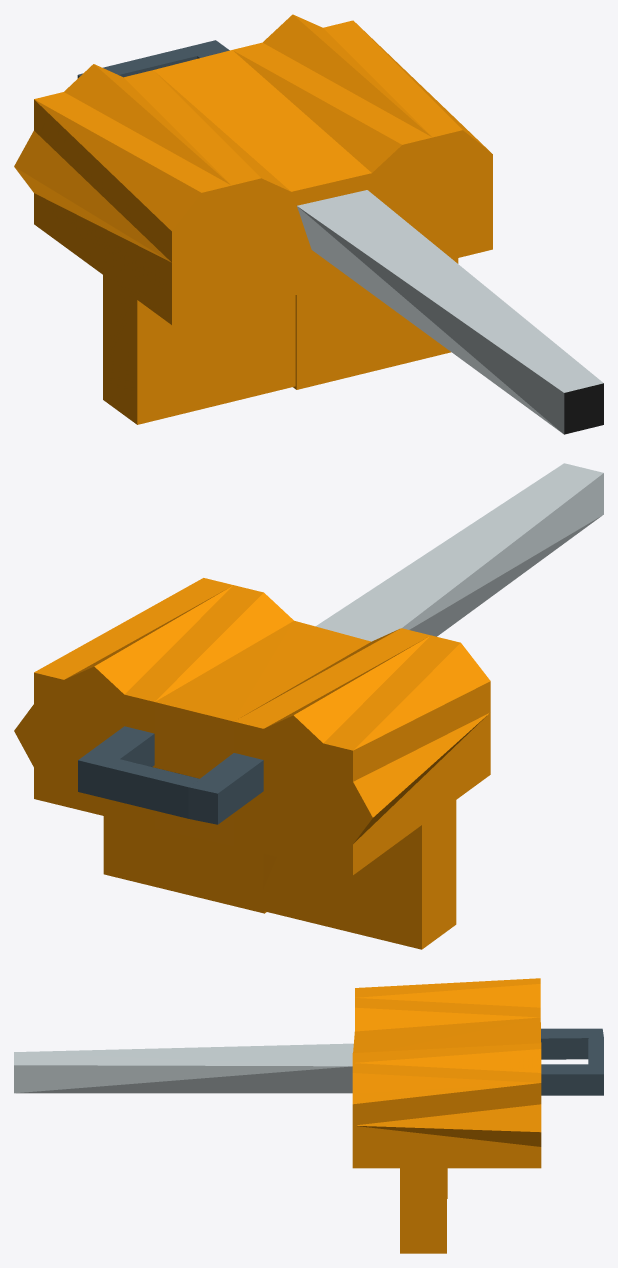
File: cannon.gltf
3 renders of one model, top to bottom at view 1: azimuth 30°, elevation 25°; view 2: azimuth 150°, elevation 25°; view 3: azimuth 270°, elevation 25°, orthographic. The views are drawn at different scales.
Parts seen in each view (by area): view 1: gun; view 2: gun; view 3: gun.
Part boxes in pixels (x1,y1,x2,y2): gun: (14,14,603,434); gun: (14,463,603,949); gun: (14,978,603,1253).
Size of the model in its own units: 1.45 by 1.06 by 3.06.
